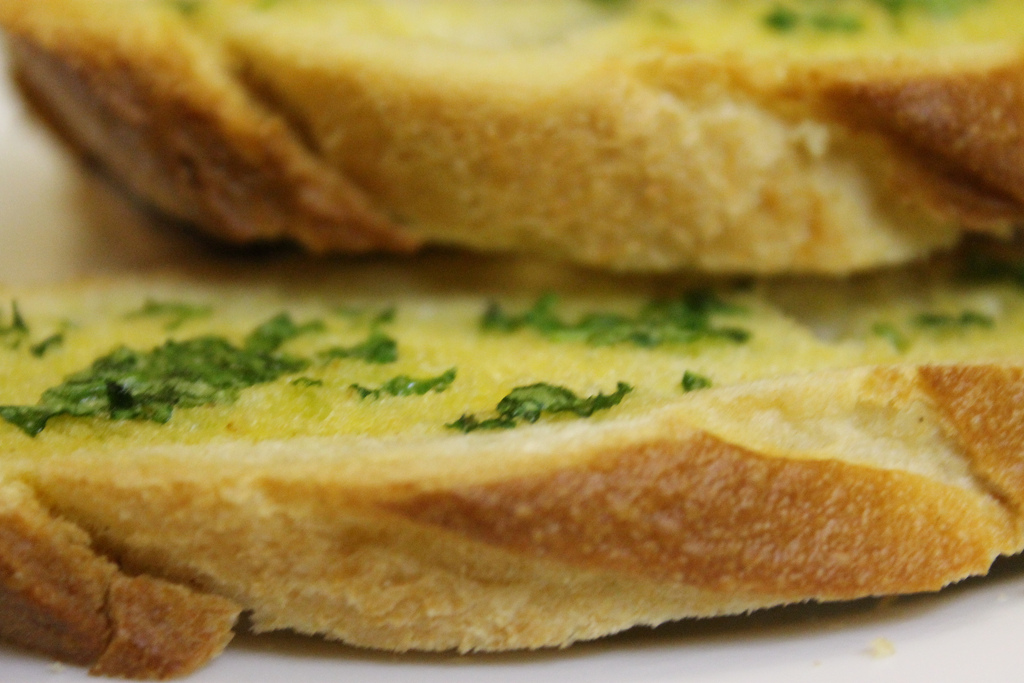slice of bread: (6, 276, 1014, 650), (44, 10, 995, 302)
